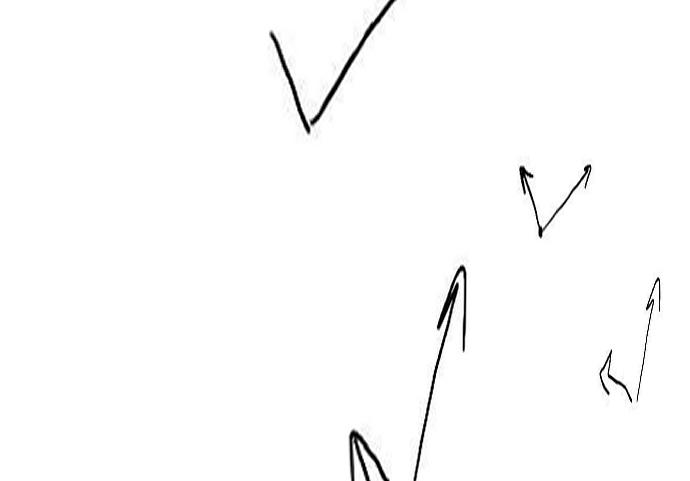arrow: (416, 265, 468, 478), (636, 275, 664, 396), (544, 163, 592, 225), (597, 351, 635, 400), (516, 165, 539, 226)
arrownohead: (313, 1, 389, 121), (270, 32, 311, 135)
